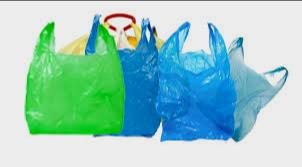Plastic: (22, 19, 127, 143), (154, 24, 239, 144)
